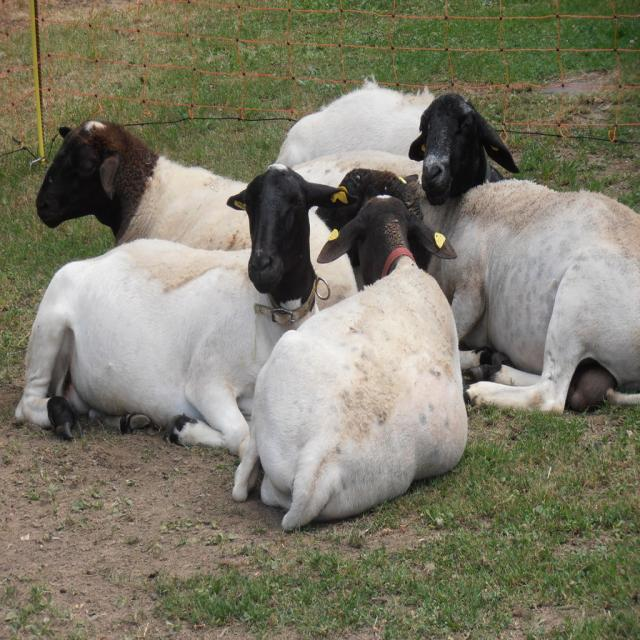Goat: (14, 159, 358, 479), (231, 192, 470, 532), (317, 165, 639, 416), (274, 75, 519, 204)
